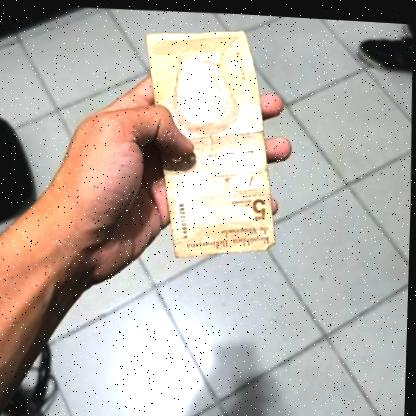five-front-vef: (141, 24, 282, 259)
